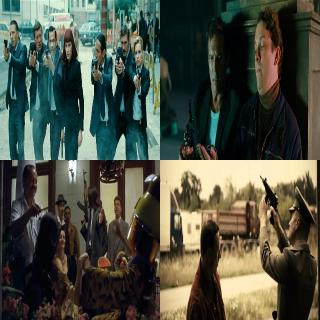gun: (256, 172, 282, 226), (178, 98, 198, 160), (75, 168, 89, 225), (27, 43, 37, 67), (42, 46, 51, 68), (91, 57, 99, 81), (1, 37, 9, 61), (115, 53, 122, 73)
